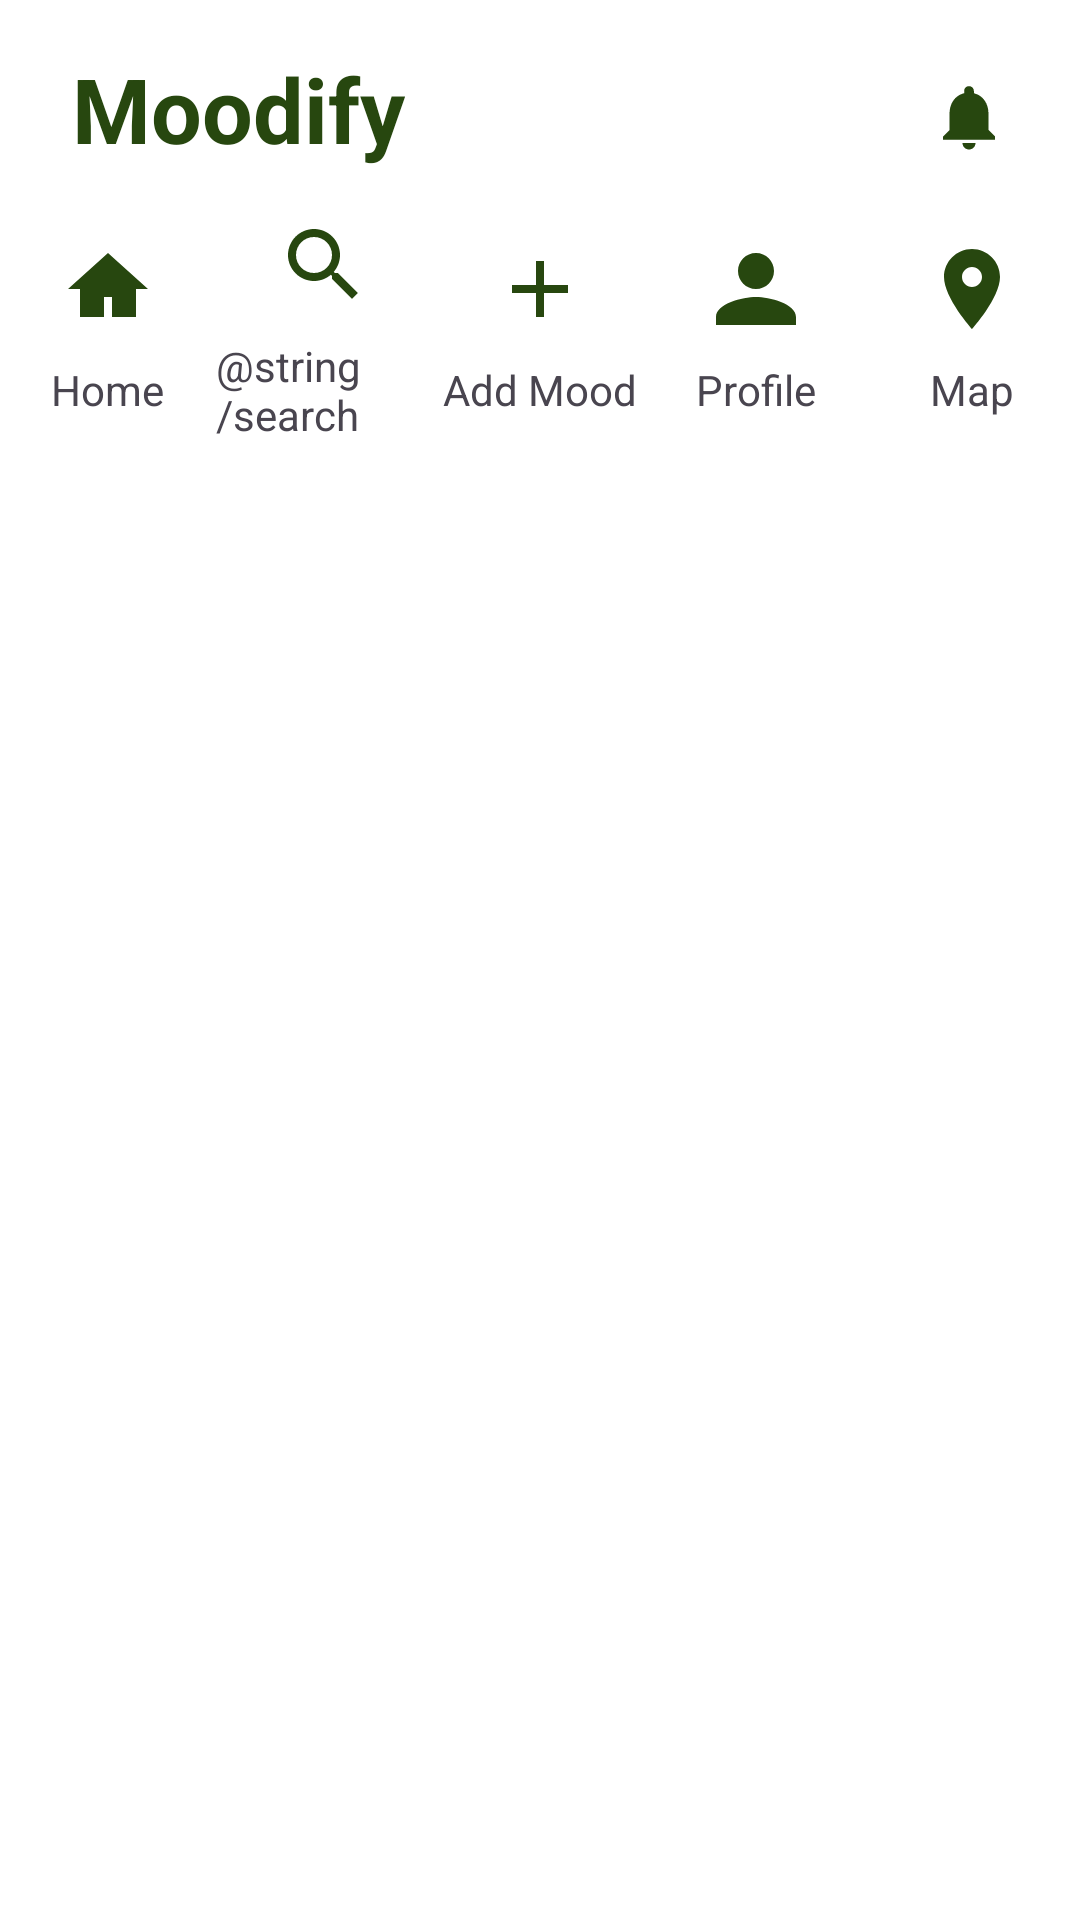

Named icons in this screenshot (1080px×1920px) and their bounding boxes, (x1, y1, x2, y2):
notification: (943, 86, 995, 150)
